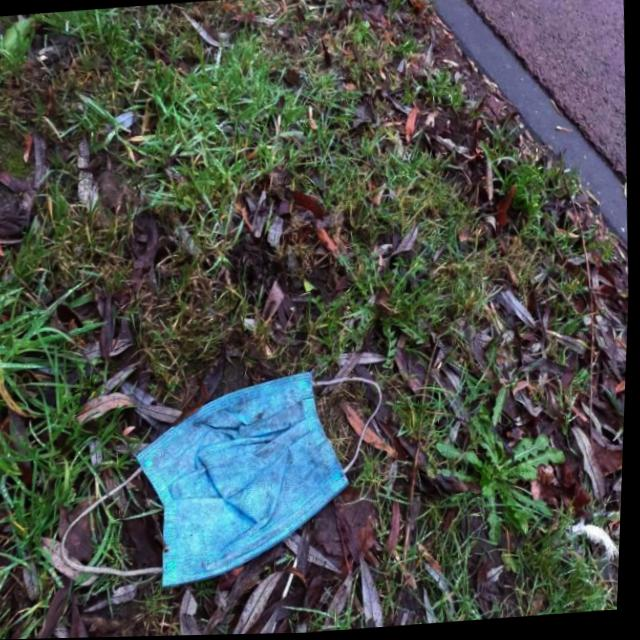Mask: (53, 367, 396, 592)
